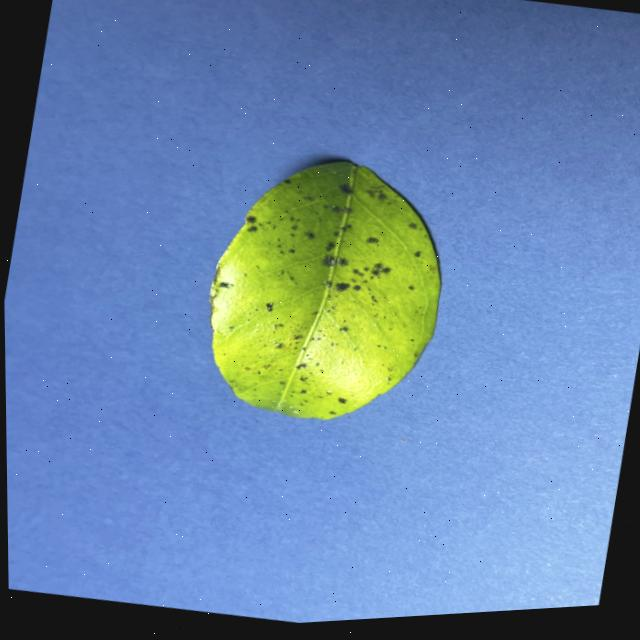sooty_mold: (210, 162, 438, 419)
